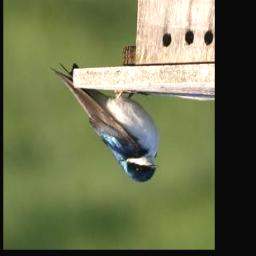Swallow: (50, 56, 162, 185)
